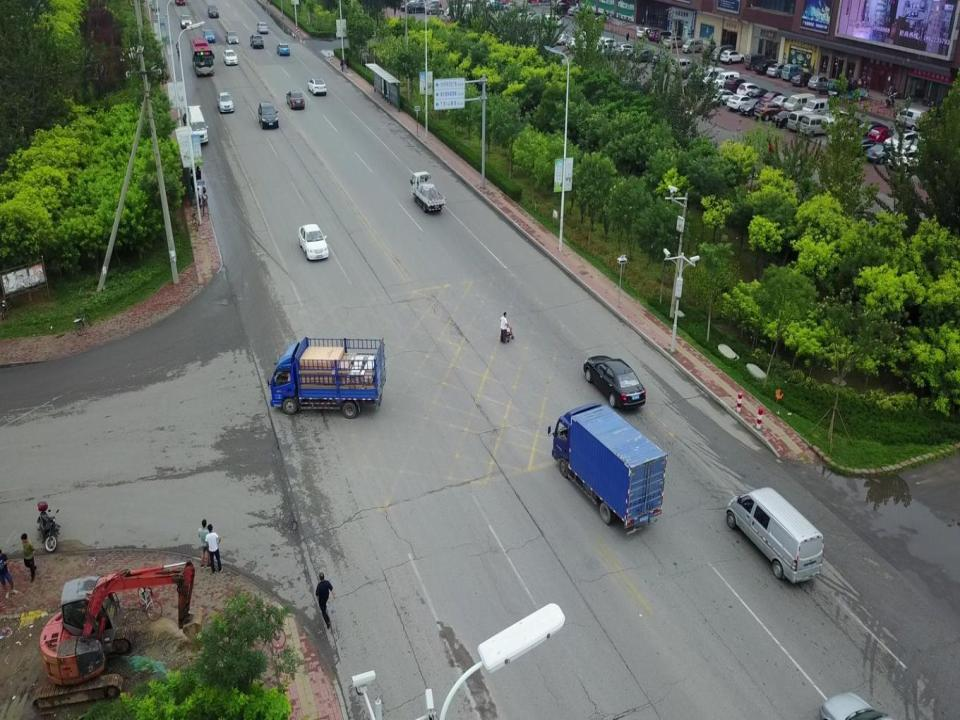bus: (189, 37, 215, 76)
car: (584, 355, 646, 407), (298, 222, 330, 262), (887, 147, 926, 172), (885, 129, 921, 151), (866, 143, 899, 164), (754, 100, 786, 120), (822, 110, 852, 130), (854, 120, 886, 138), (258, 101, 278, 129), (847, 138, 877, 156), (727, 94, 755, 112), (722, 76, 751, 93), (740, 99, 766, 117), (711, 89, 740, 105), (759, 90, 788, 105), (772, 110, 797, 127), (736, 83, 764, 98), (754, 58, 780, 74), (868, 127, 895, 142), (721, 48, 744, 64), (286, 90, 305, 109), (767, 62, 791, 77), (790, 72, 815, 86), (218, 92, 234, 113), (748, 88, 772, 102), (828, 83, 851, 97), (632, 49, 654, 63), (308, 78, 327, 94), (807, 76, 831, 88), (662, 36, 686, 48), (769, 95, 791, 108), (655, 30, 676, 43), (616, 43, 636, 56), (587, 12, 607, 25), (249, 33, 265, 49), (648, 28, 666, 42), (223, 49, 237, 66), (652, 54, 670, 66), (555, 34, 574, 45), (556, 2, 573, 14), (636, 27, 656, 37), (180, 13, 193, 28), (207, 4, 219, 17), (226, 31, 238, 43), (203, 30, 215, 42), (277, 44, 289, 56), (256, 22, 268, 33), (568, 7, 580, 15)
truck: (548, 402, 668, 535), (267, 337, 387, 416), (410, 170, 446, 213), (816, 81, 836, 94)
van: (726, 486, 824, 582), (186, 104, 209, 144), (894, 108, 926, 130), (800, 115, 829, 137), (783, 92, 816, 111), (787, 111, 815, 133), (710, 71, 740, 90), (697, 66, 724, 86), (803, 97, 830, 116), (711, 43, 735, 62), (745, 52, 767, 70), (782, 63, 804, 80), (671, 58, 694, 74), (682, 38, 704, 52), (544, 14, 561, 28)
